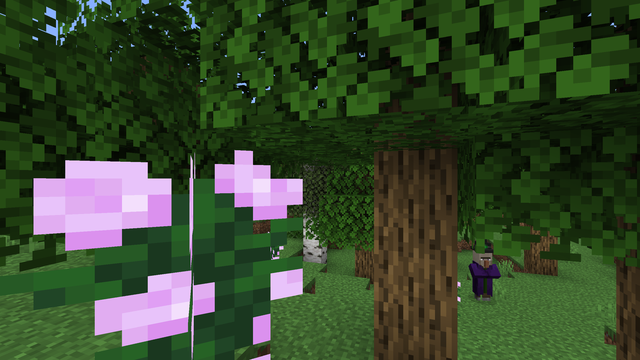sorcieres: (471, 258, 492, 303)
